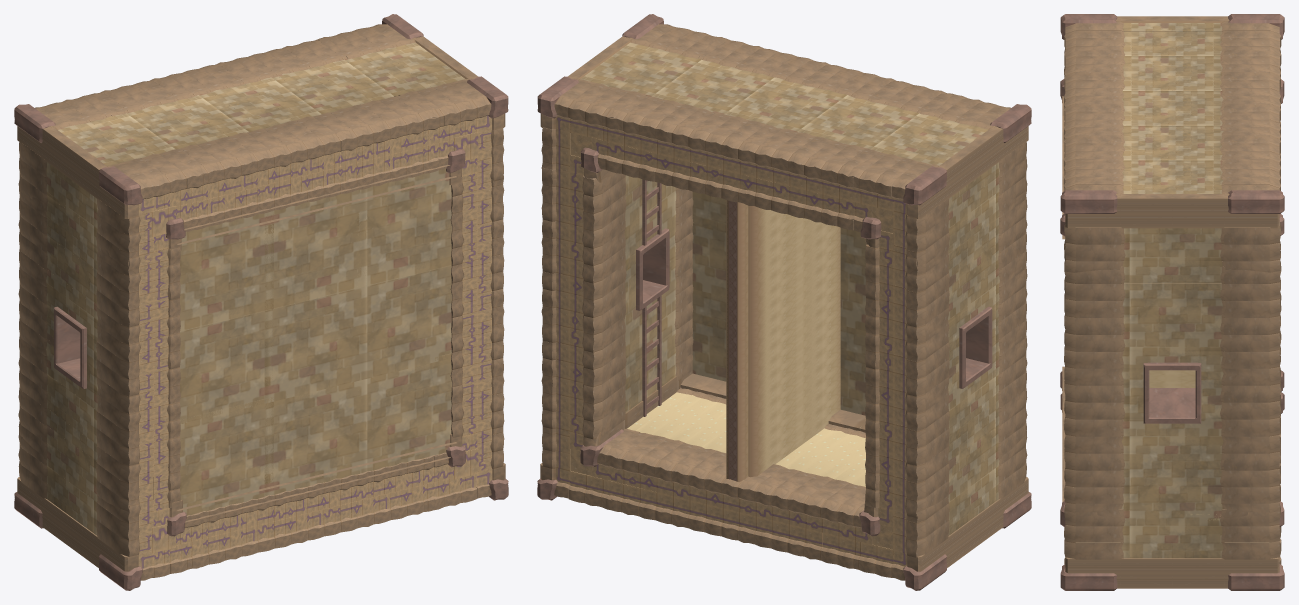
Rendered from SeparatingWallRoom.fbx.
3 renders of one model, left to right at view 1: azimuth 30°, elevation 25°; view 2: azimuth 150°, elevation 25°; view 3: azimuth 270°, elevation 25°, orthographic. The views are drawn at different scales.
Parts seen in each view (by area): view 1: RoomEdges_Corridor.002, RoomWall_Corridor.002; view 2: RoomEdges_Corridor.002, Cube.001, RoomWall_Corridor.002; view 3: RoomEdges_Corridor.002, Cube.001, RoomWall_Corridor.002.
Boxes of the visible parts, box(x1,y1,x2,y2) form: RoomEdges_Corridor.002: box(14, 14, 508, 590); RoomWall_Corridor.002: box(177, 164, 456, 522); RoomEdges_Corridor.002: box(537, 14, 1031, 590); Cube.001: box(726, 200, 840, 482); RoomWall_Corridor.002: box(680, 192, 866, 432); RoomEdges_Corridor.002: box(1060, 14, 1284, 590); Cube.001: box(1149, 370, 1195, 387); RoomWall_Corridor.002: box(1062, 96, 1065, 501).
Size of the model in its own units: 5315 by 5314 by 2726.
6 materials, 6 textured.
